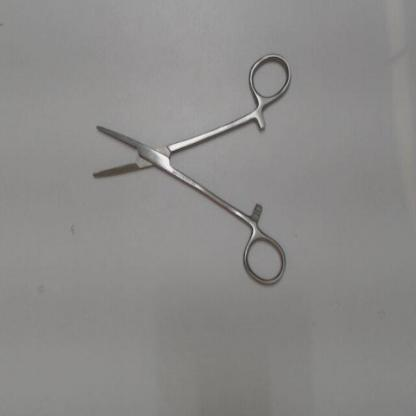Mayo Needle Holder: (86, 46, 294, 292)
